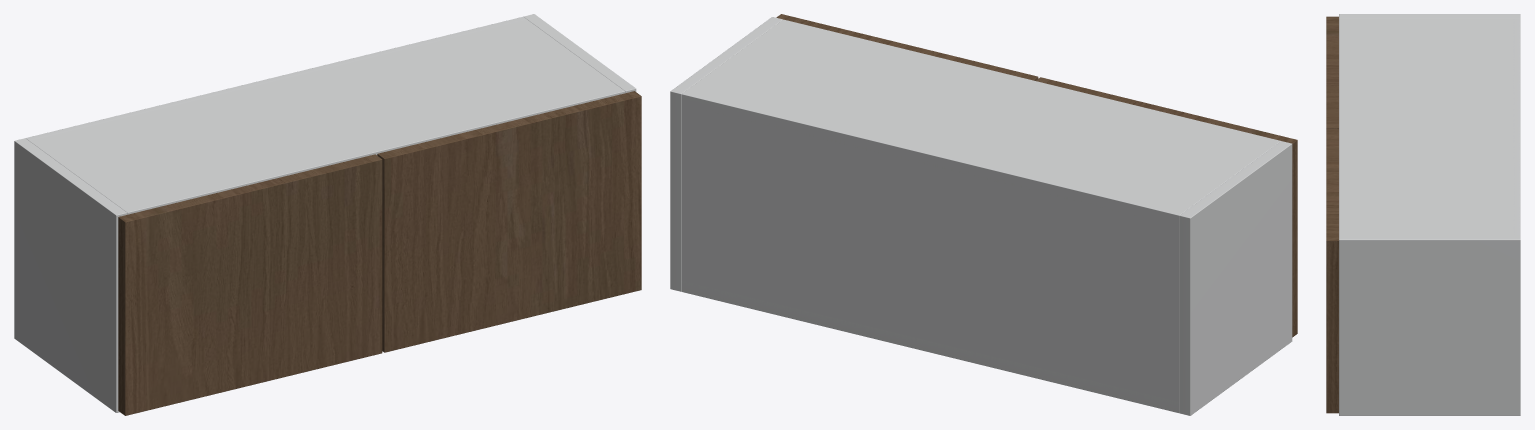
The model's file is oppein-ply-mso-w3312.glb.
The picture shows the model from 3 angles, left to right: view 1: azimuth 30°, elevation 25°; view 2: azimuth 150°, elevation 25°; view 3: azimuth 270°, elevation 25°; orthographic projection. The views are drawn at different scales.
Visible parts, largest first — view 1: Door, Door.001, Cabinet top, Cabinet side, Cabinet back, Cabinet side.001; view 2: Cabinet back, Cabinet top, Cabinet side, Cabinet bottom, Cabinet side.001, Door, Door.001; view 3: Cabinet top, Cabinet side.001, Door.001, Cabinet back, Door, Cabinet side.
Boxes of the visible parts, <box> form: Door: <box>118,154,382,415</box>; Door.001: <box>377,91,641,352</box>; Cabinet top: <box>29,17,625,214</box>; Cabinet side: <box>14,138,127,412</box>; Cabinet back: <box>25,17,526,140</box>; Cabinet side.001: <box>523,14,636,93</box>; Cabinet back: <box>681,91,1182,412</box>; Cabinet top: <box>681,19,1280,225</box>; Cabinet side: <box>1179,141,1292,415</box>; Cabinet bottom: <box>681,281,1179,412</box>; Cabinet side.001: <box>670,17,782,291</box>; Door: <box>1036,77,1297,337</box>; Door.001: <box>776,14,1038,80</box>; Cabinet top: <box>1339,19,1520,235</box>; Cabinet side.001: <box>1339,235,1520,415</box>; Door.001: <box>1326,129,1338,413</box>; Cabinet back: <box>1513,19,1520,235</box>; Door: <box>1326,16,1338,128</box>; Cabinet side: <box>1339,14,1520,18</box>.
Size of the model in its own units: 0.8382 by 0.3048 by 0.3048.
Materials: 2 (1 with a texture image).
